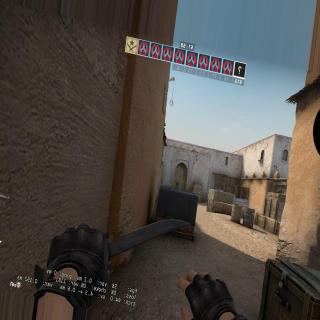CT-Body: (175, 182, 179, 188)
CT-Head: (178, 182, 178, 183)
